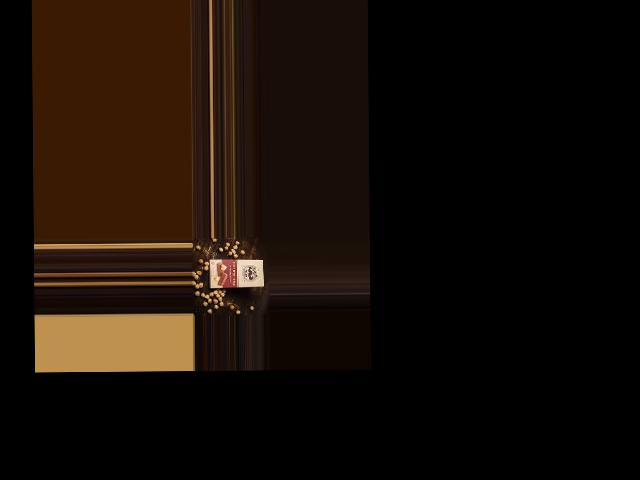chocolate: (207, 257, 265, 291)
